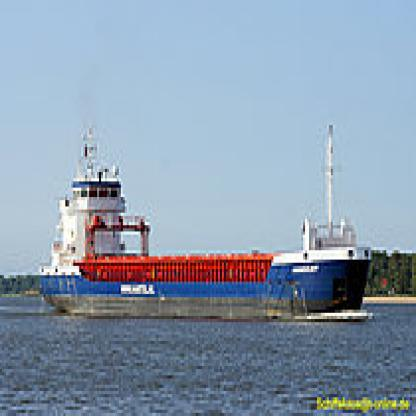Container Ship: (37, 121, 373, 320)
